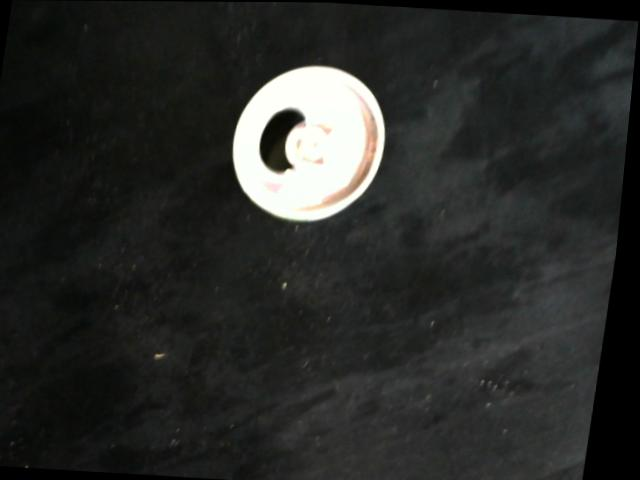can: (224, 58, 400, 227)
